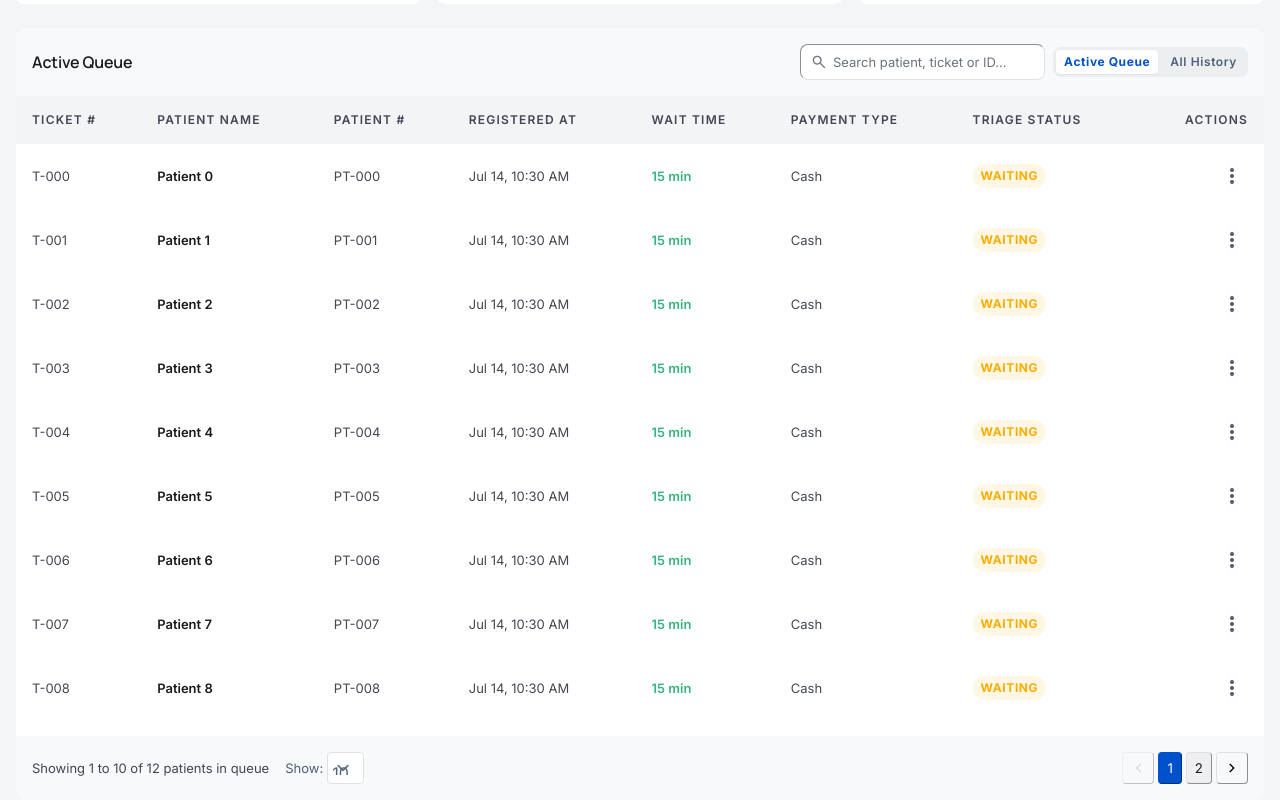
Test case: VisitQueuePage › allows changing page size pagination
(page scrolled)
Expected: the text "Patient 0" is shown, [141,144,318,208]
// Select page size dropdown
Select "5" in the dropdown at (346, 768), box [327,752,364,784]
(page scrolled)
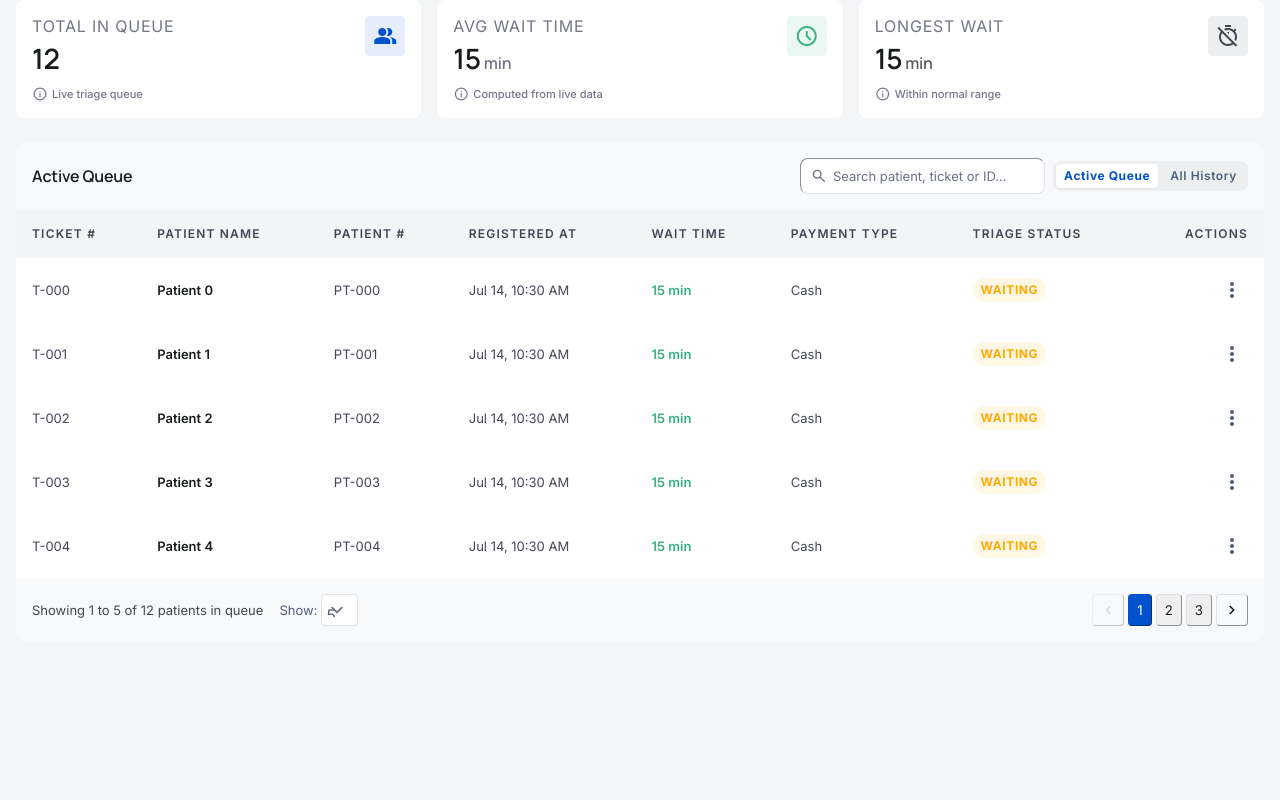
Expected: the text "Patient 0" is shown, [141,258,318,322]
Now the text "Patient 5" is gone
